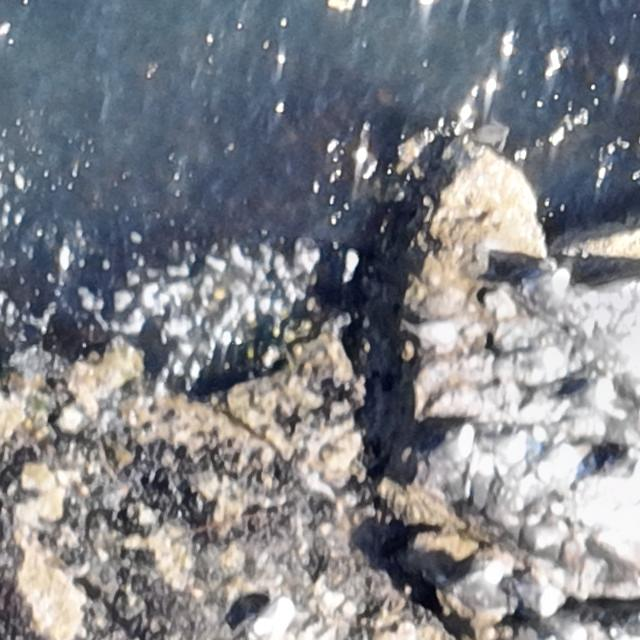umineko: (512, 576, 566, 620), (463, 558, 508, 598), (258, 596, 298, 636)
